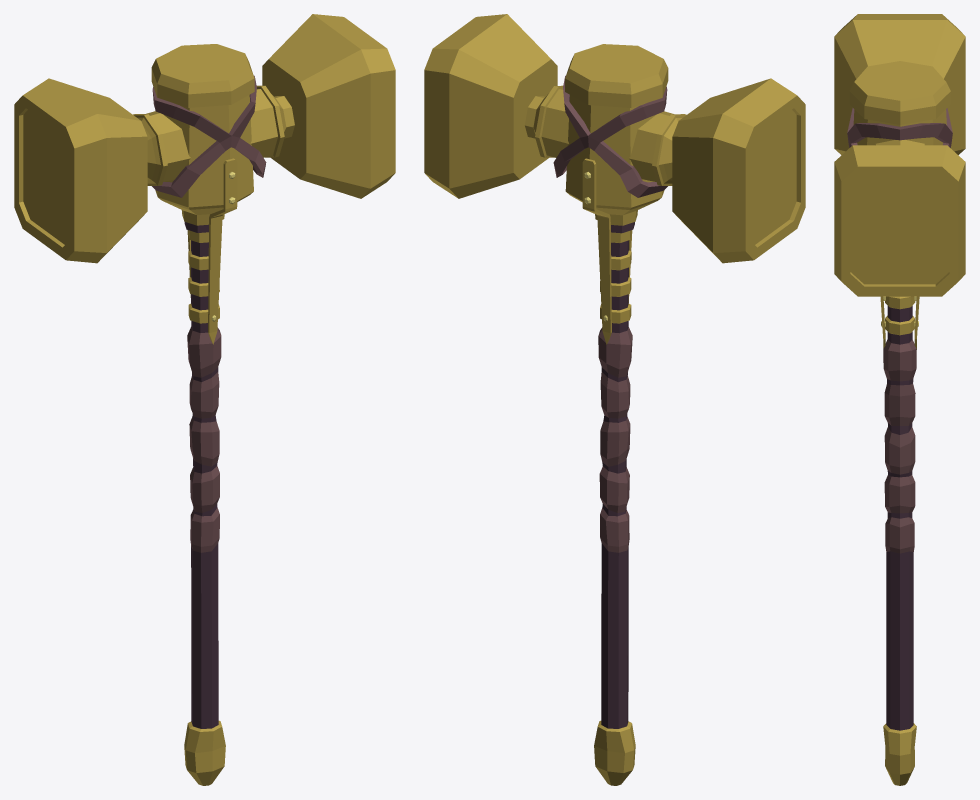
File: gold_hammer.glb
The picture shows the model from 3 angles, left to right: view 1: azimuth 30°, elevation 25°; view 2: azimuth 150°, elevation 25°; view 3: azimuth 270°, elevation 25°; orthographic projection. The views are drawn at different scales.
Parts seen in each view (by area): view 1: Weapon; view 2: Weapon; view 3: Weapon.
Boxes of the visible parts, x1,y1,x2,y2 form: Weapon: [14, 14, 395, 785]; Weapon: [424, 14, 805, 785]; Weapon: [834, 14, 965, 785].
Bounding box in the file's own units: 0.6308 × 1.35 × 0.2292.
